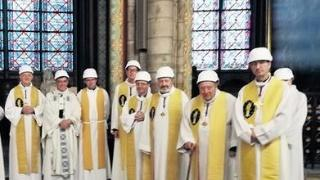helmet: (248, 47, 273, 63), (196, 71, 220, 84), (273, 69, 293, 82), (157, 67, 175, 80), (55, 69, 71, 80), (19, 65, 35, 76), (84, 68, 99, 79), (136, 73, 152, 82), (126, 61, 141, 70)
